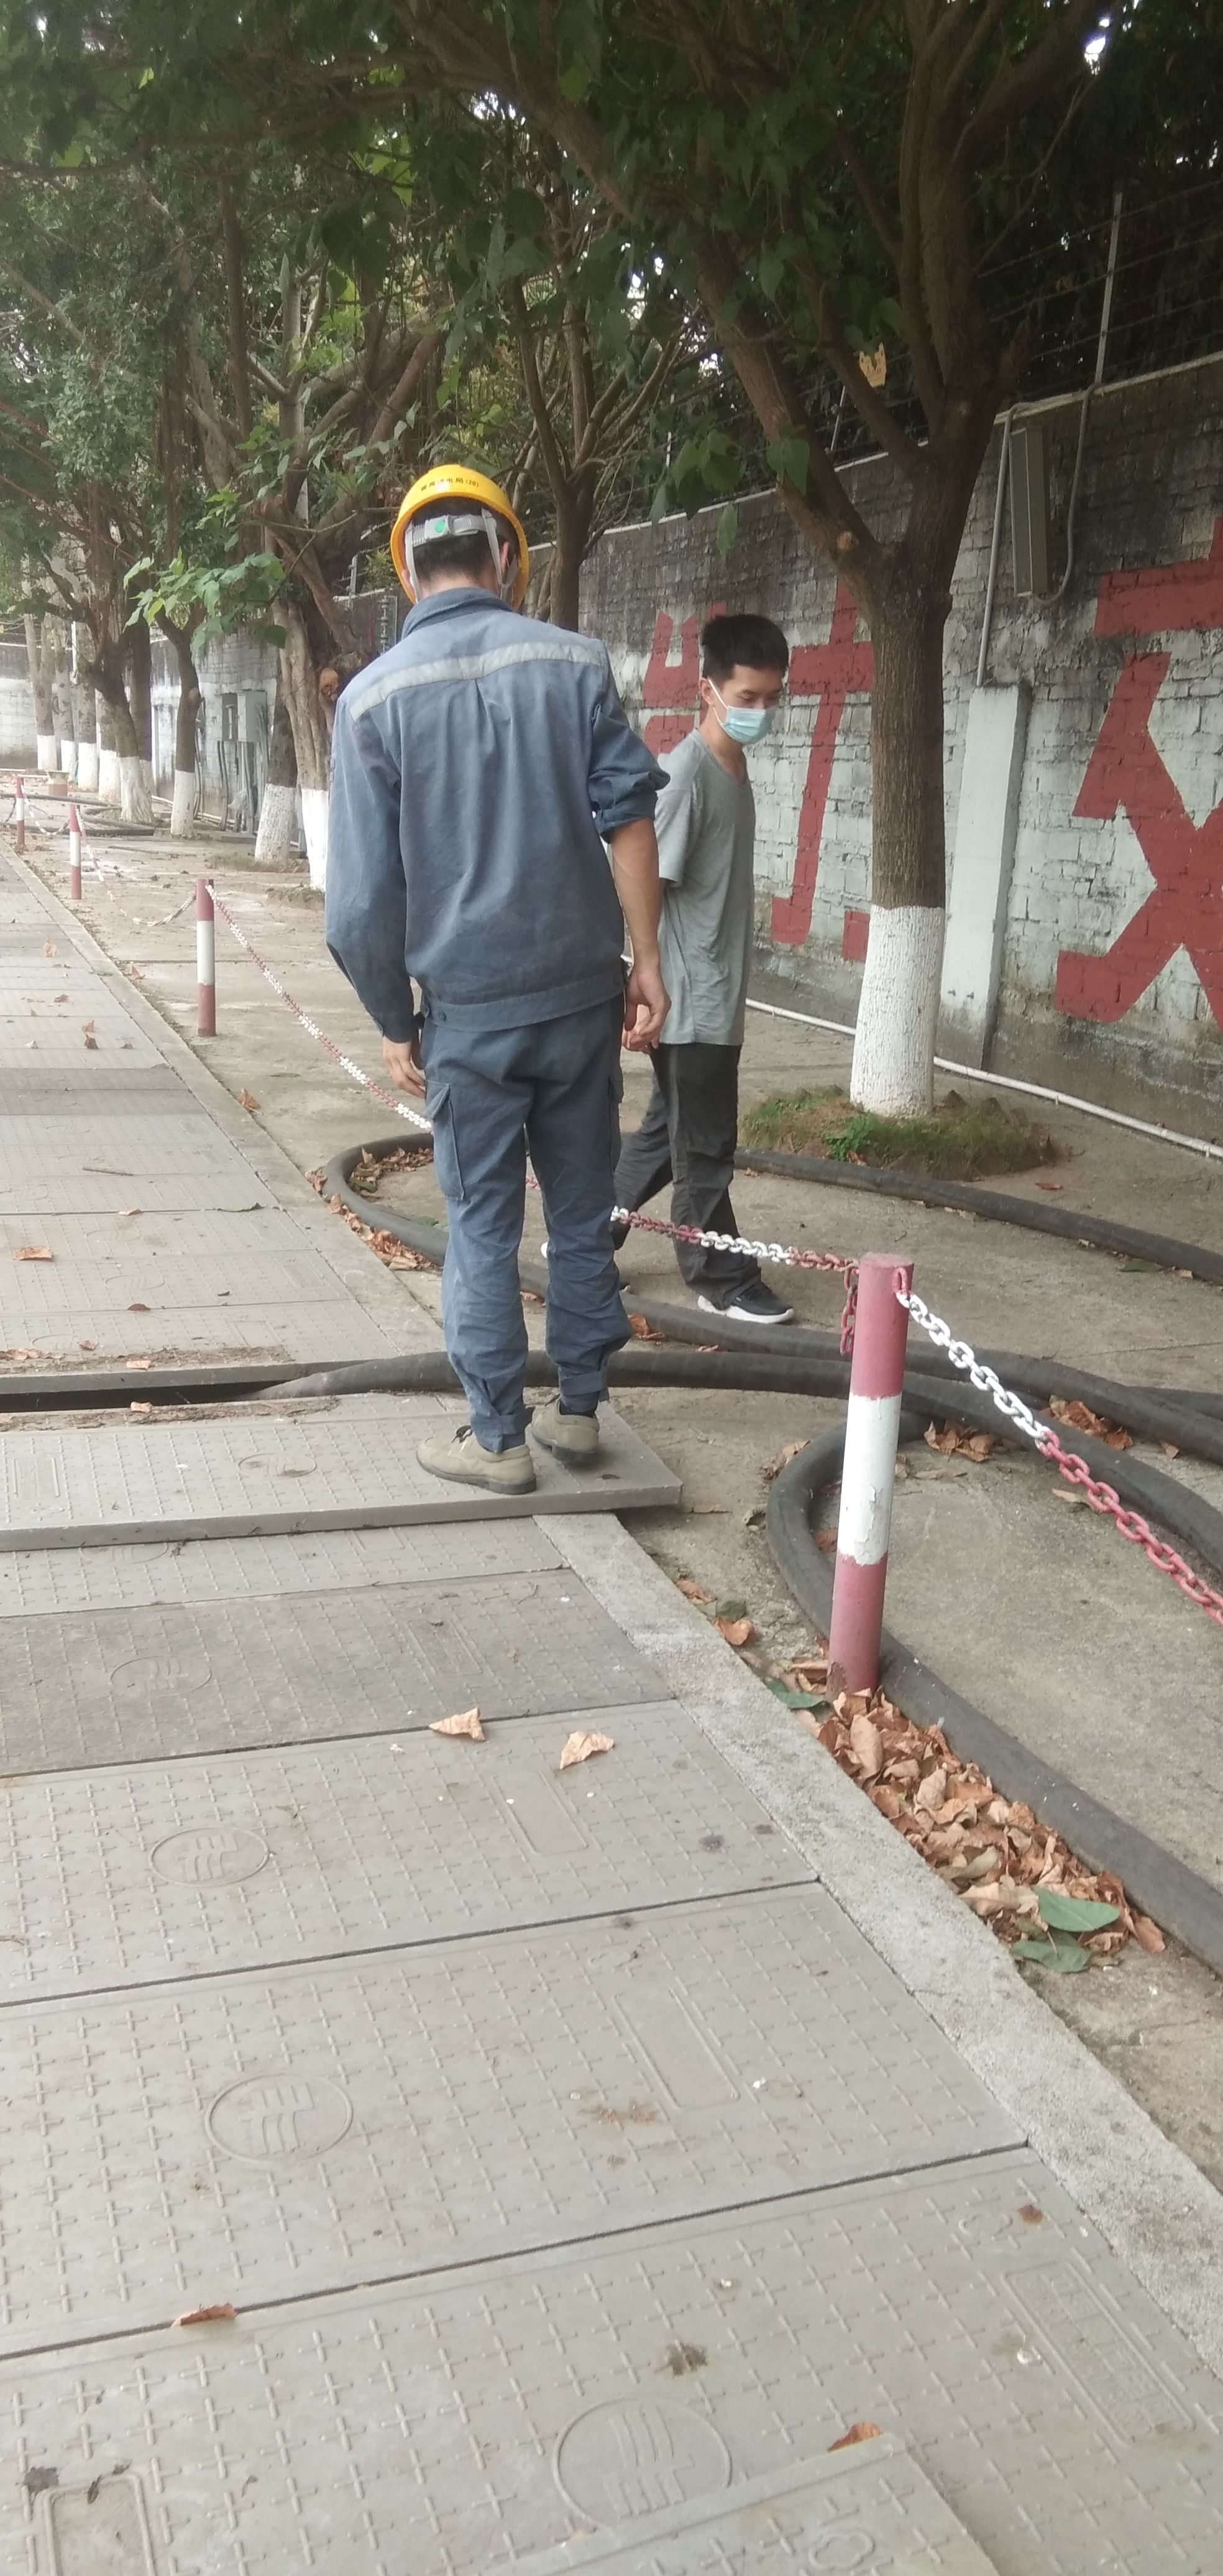downcloth: (622, 1035, 757, 1326)
downsuit: (427, 1040, 630, 1429)
upcloth: (670, 739, 760, 1038)
upsuit: (317, 588, 668, 1025)
wrongtop: (599, 790, 678, 1007)
